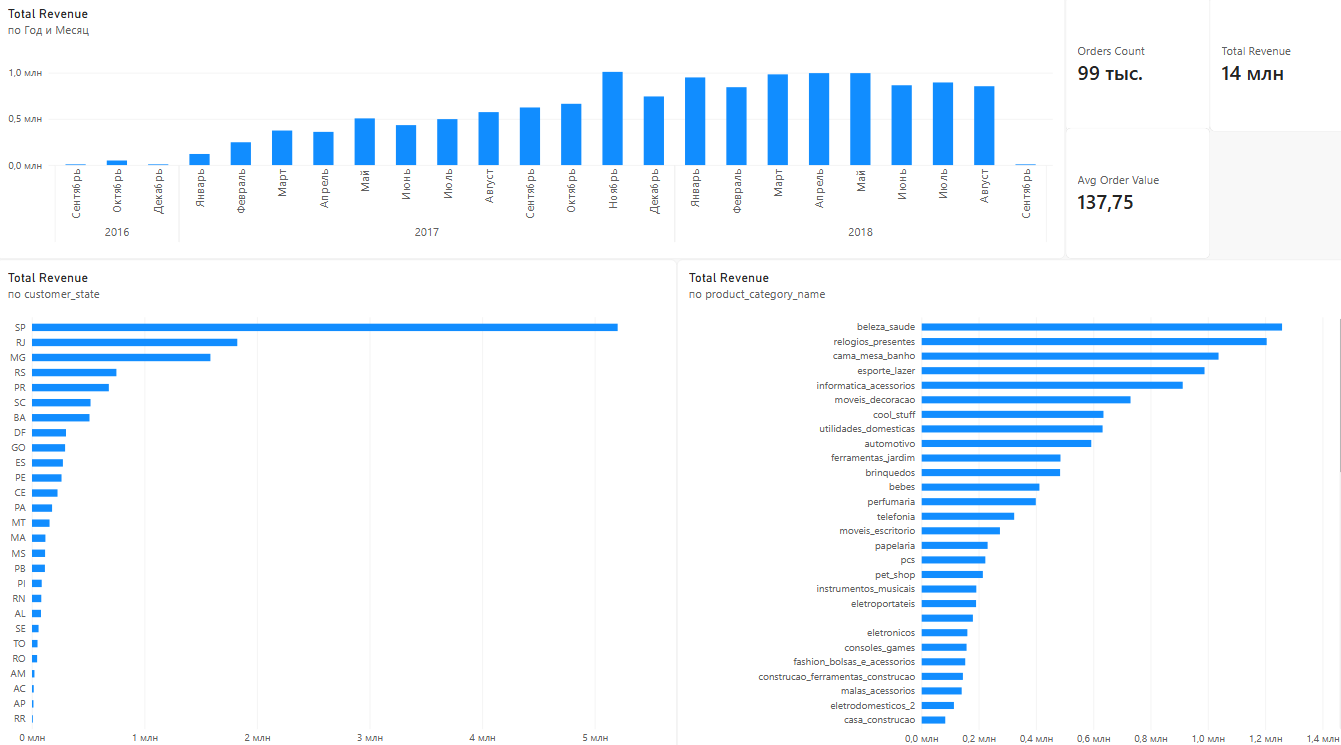

This screenshot's page, from the dashboard's own definition file:
{"tool":"powerbi","page":{"name":"Страница 1","canvas":[1920,1080],"ordinal":0},"visuals":[{"type":"clusteredColumnChart","fields":{"Category":["olist_orders_dataset.order_purchase_timestamp.Изменение.Иерархия дат.Год","olist_orders_dataset.order_purchase_timestamp.Изменение.Иерархия дат.Месяц"],"Y":["olist_order_items_dataset.Total Revenue"]},"box":[0,2.4,1507.1,371.4],"z":0},{"type":"cardVisual","fields":{"Data":["olist_order_items_dataset.Total Revenue"]},"box":[1711.9,2.4,204.8,192.9],"z":1000},{"type":"cardVisual","fields":{"Data":["olist_order_items_dataset.Orders Count"]},"box":[1507.1,2.4,204.8,192.9],"z":3000},{"type":"cardVisual","fields":{"Data":["olist_order_items_dataset.Avg Order Value"]},"box":[1507.1,188.1,204.8,185.7],"z":3001},{"type":"clusteredBarChart","fields":{"Category":["olist_products_dataset.product_category_name"],"Y":["olist_order_items_dataset.Total Revenue"]},"box":[959.5,373.8,959.5,707.1],"z":3002},{"type":"clusteredBarChart","fields":{"Category":["olist_customers_dataset.customer_state"],"Y":["olist_order_items_dataset.Total Revenue"]},"box":[0,374,960,706],"z":3003},{"type":"slicer","fields":{"Values":["olist_orders_dataset.order_purchase_timestamp.Изменение.Иерархия дат.Год"]},"box":[1712.1,195.6,204.1,178.6],"z":3004}]}

Visuals, with their boxes in screenshot pixels (x1, y1, x2, y2), scaled from the page's 1920x1080 canvas onto the 1341x745 screenshot:
clusteredColumnChart - olist_orders_dataset.order_purchase_timestamp.Изменение.Иерархия дат.Год x olist_orders_dataset.order_purchase_timestamp.Изменение.Иерархия дат.Месяц: [0,2,1053,258]
cardVisual - olist_order_items_dataset.Total Revenue: [1196,2,1339,135]
cardVisual - olist_order_items_dataset.Orders Count: [1053,2,1196,135]
cardVisual - olist_order_items_dataset.Avg Order Value: [1053,130,1196,258]
clusteredBarChart - olist_products_dataset.product_category_name x olist_order_items_dataset.Total Revenue: [670,258,1340,744]
clusteredBarChart - olist_customers_dataset.customer_state x olist_order_items_dataset.Total Revenue: [0,258,670,744]
slicer - olist_orders_dataset.order_purchase_timestamp.Изменение.Иерархия дат.Год: [1196,135,1338,258]
